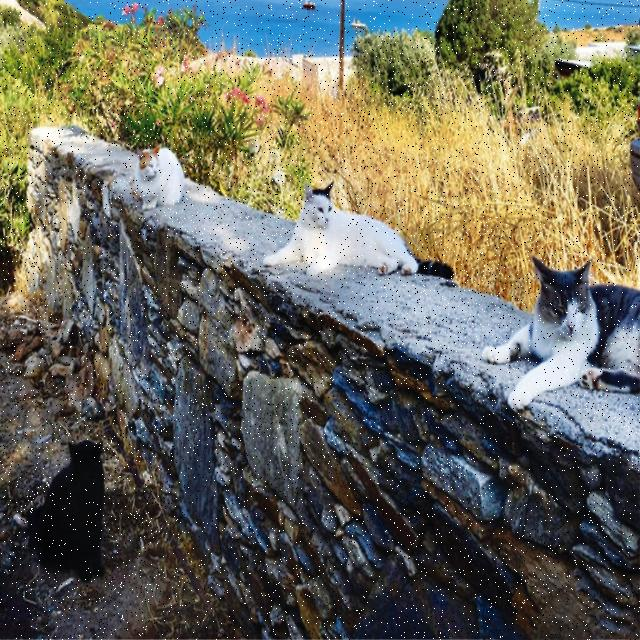cat: (482, 258, 640, 410), (264, 184, 454, 278), (29, 440, 104, 582), (132, 145, 184, 210)
